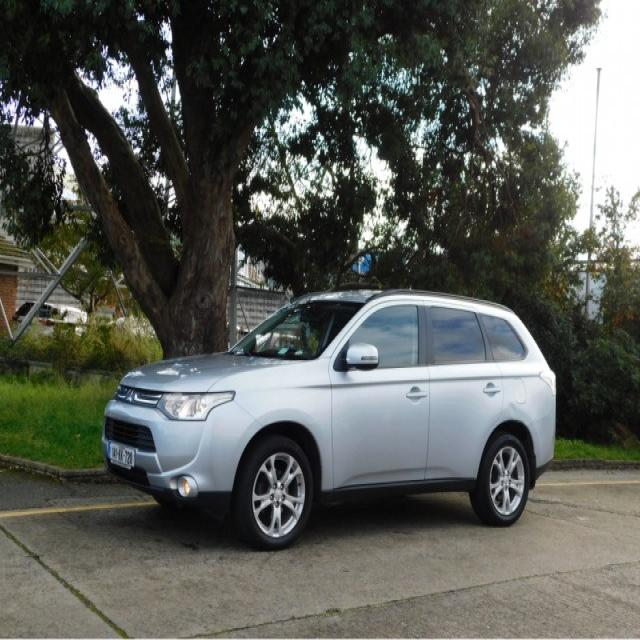light_vehicle: (100, 288, 558, 551)
